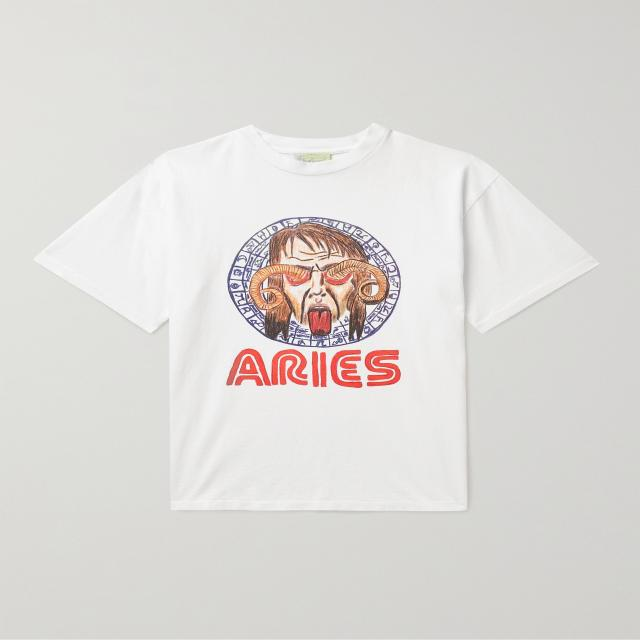tshirt: (34, 121, 598, 515)
